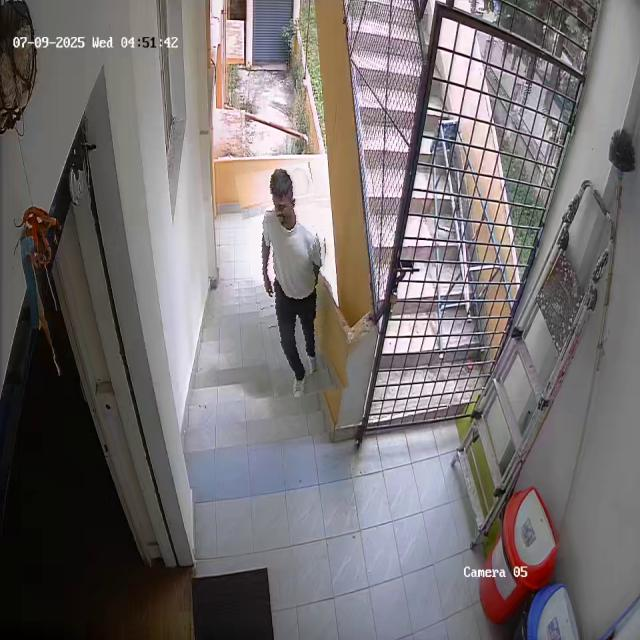person: (245, 165, 339, 398)
